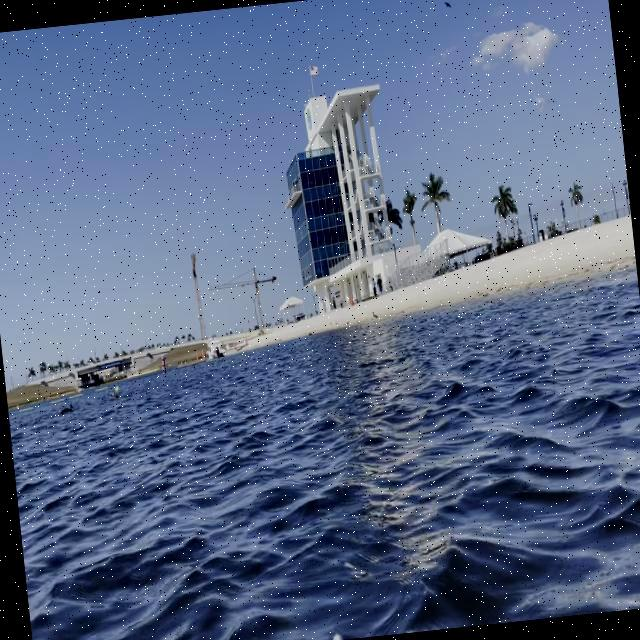buoy: (112, 382, 120, 394)
